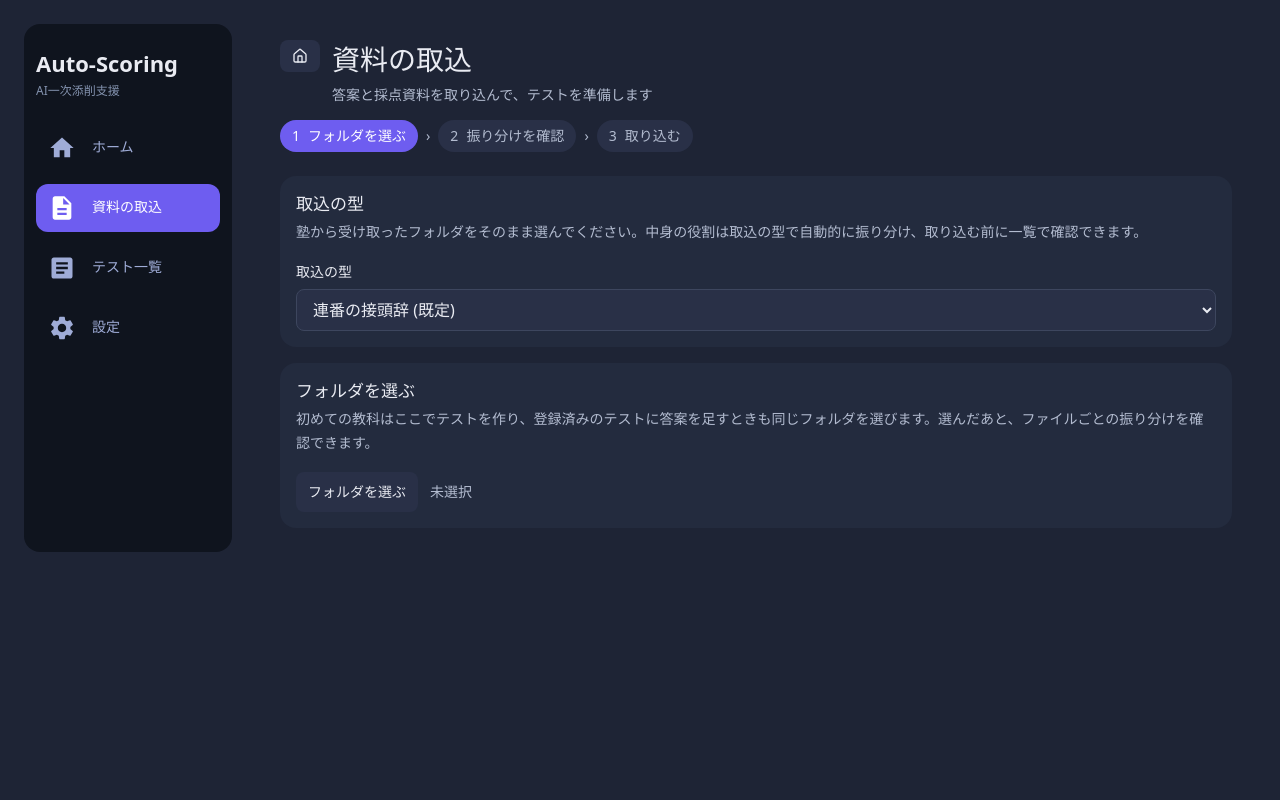
Test case: IntakePage invariants › Issue #346: the steps show folder → routing → import progress
Check: the dropdown with test id "intake-template-picker" is shown, box [296,289,1216,331]
Click the button with test id "intake-choose-folder".
click(357, 492)  # box [296,472,418,512]
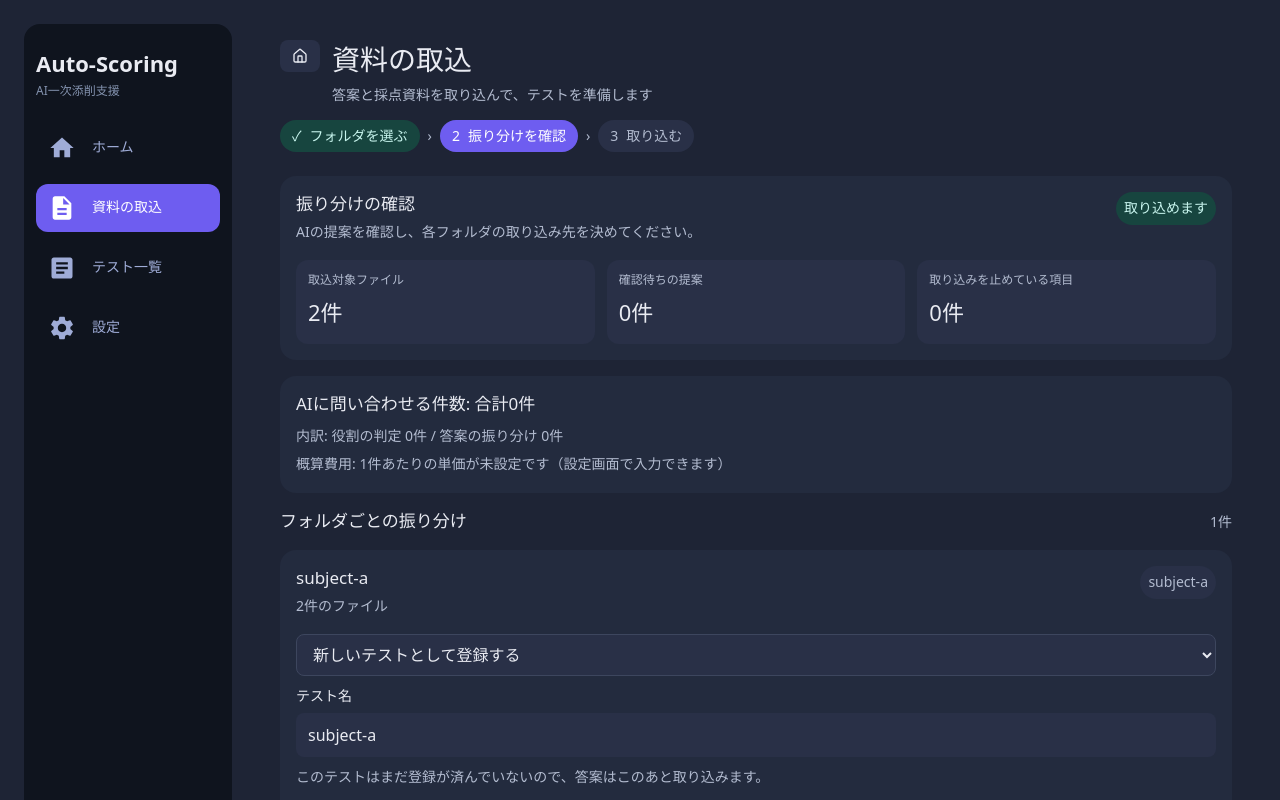
Check: the element with test id "intake-call-estimate" is shown, box [280,376,1232,493]
